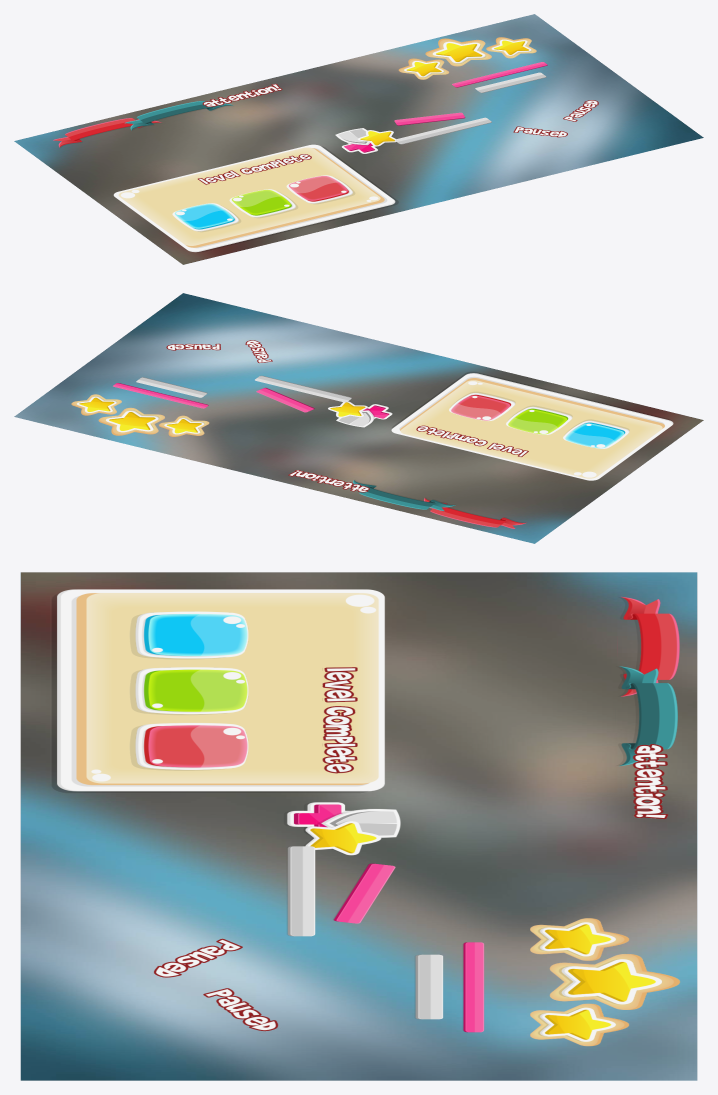
3 views of the same model, one above another, from view 1: azimuth 30°, elevation 25°; view 2: azimuth 150°, elevation 25°; view 3: azimuth 270°, elevation 25° (orthographic). The views are drawn at different scales.
Parts seen in each view (by area): view 1: bg, wnd_ui1, wnd_ui2_bt, clip_fg, clip_bg, jelem2, jelem1, wnd_ui1.001, lin1, ele_blink, lin2.001, lin1.001 (+2 smaller); view 2: bg, wnd_ui1, wnd_ui2_bt, clip_fg, clip_bg, jelem2, jelem1, wnd_ui1.001, lin1, ele_blink, lin2.001, lin1.001 (+2 smaller); view 3: bg, wnd_ui1, wnd_ui2_bt, clip_fg, clip_bg, jelem2, jelem1, wnd_ui1.001, lin1, ele_blink, lin2.001, lin1.001 (+6 smaller).
Boxes of the visible parts, x1,y1,x2,y2 form: bg: [14, 14, 703, 264]; wnd_ui1: [113, 144, 395, 252]; wnd_ui2_bt: [172, 175, 352, 231]; clip_fg: [404, 39, 531, 77]; clip_bg: [398, 37, 536, 79]; jelem2: [124, 101, 233, 130]; jelem1: [53, 118, 161, 147]; wnd_ui1.001: [197, 154, 311, 184]; lin1: [394, 117, 491, 144]; ele_blink: [202, 83, 282, 106]; lin2.001: [452, 62, 547, 87]; lin1.001: [475, 72, 546, 92]; bg: [14, 293, 703, 543]; wnd_ui1: [392, 373, 673, 480]; wnd_ui2_bt: [449, 392, 629, 448]; clip_fg: [77, 396, 204, 434]; clip_bg: [71, 394, 209, 436]; jelem2: [349, 480, 455, 511]; jelem1: [424, 498, 526, 528]; wnd_ui1.001: [416, 425, 528, 456]; lin1: [255, 375, 351, 402]; ele_blink: [288, 470, 369, 492]; lin2.001: [113, 383, 208, 408]; lin1.001: [136, 377, 207, 397]; bg: [20, 572, 697, 1080]; wnd_ui1: [56, 589, 384, 790]; wnd_ui2_bt: [135, 611, 248, 769]; clip_fg: [540, 922, 662, 1041]; clip_bg: [530, 918, 679, 1046]; jelem2: [619, 666, 677, 766]; jelem1: [621, 596, 679, 696]; wnd_ui1.001: [322, 667, 357, 773]; lin1: [287, 846, 315, 936]; ele_blink: [633, 744, 667, 818]; lin2.001: [463, 942, 484, 1032]; lin1.001: [415, 954, 443, 1019].
Size of the model in its own units: 19.2 by 0.0967 by 10.8.
19 materials, 19 textured.
